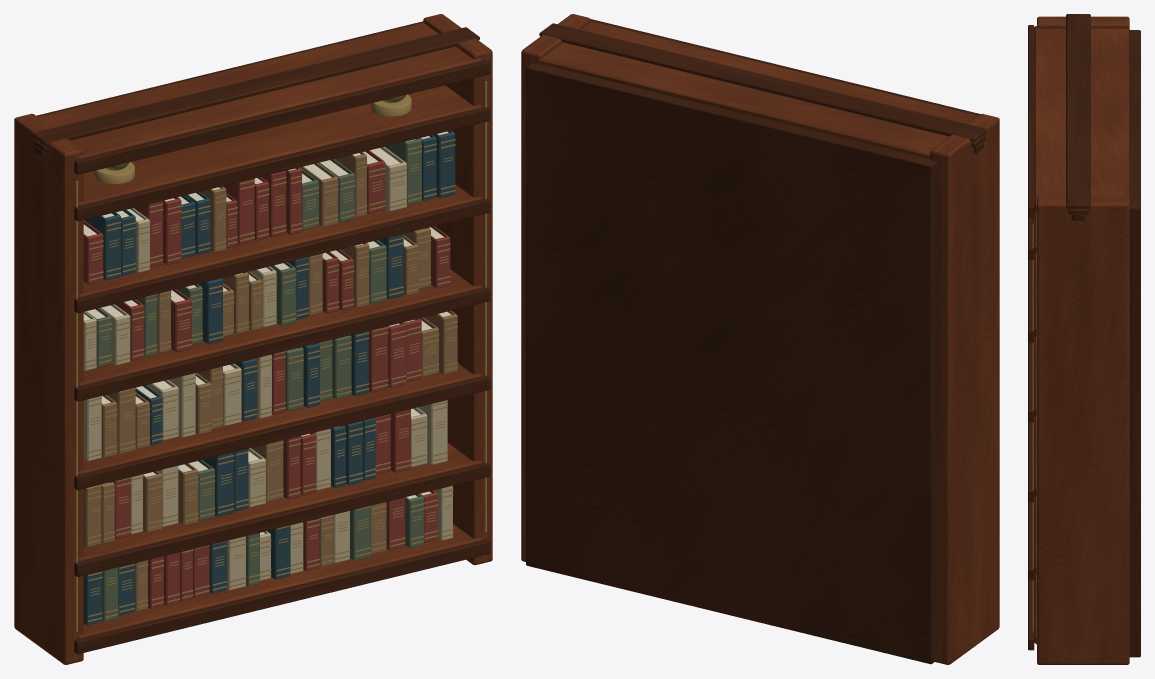
The model's file is bookcase-left.glb.
The picture shows the model from 3 angles, left to right: view 1: azimuth 30°, elevation 25°; view 2: azimuth 150°, elevation 25°; view 3: azimuth 270°, elevation 25°; orthographic projection. The views are drawn at different scales.
Parts seen in each view (by area): view 1: part::bookcase-left/library-pilaster-001, part::bookcase-left/library-pilaster-002, part::bookcase-left/library-solid-shelf-007, part::bookcase-left/library-solid-shelf-006, part::bookcase-left/library-crown2-001, part::bookcase-left/library-shelf-lip-007, part::bookcase-left/library-shelf-lip-001, part::bookcase-left/library-shelf-lip-002, part::bookcase-left/library-shelf-lip-004, part::bookcase-left/library-shelf-lip-006, part::bookcase-left/library-shelf-lip-003, part::bookcase-left/library-shelf-lip-005 (+108 smaller); view 2: part::bookcase-left/library-shadow-backing-001, part::bookcase-left/library-pilaster-001, part::bookcase-left/library-solid-shelf-007, part::bookcase-left/library-crown2-001, part::bookcase-left/library-pilaster-002, part::bookcase-left/library-shelf-lip-007; view 3: part::bookcase-left/library-pilaster-002, part::bookcase-left/library-solid-shelf-007, part::bookcase-left/library-shadow-backing-001, part::bookcase-left/library-crown2-001, part::bookcase-left/library-shelf-lip-007, part::bookcase-left/library-pilaster-001, part::bookcase-left/library-pilaster-brass-flute-002, part::bookcase-left/library-shelf-lip-005, part::bookcase-left/library-shelf-lip-003, part::bookcase-left/library-shelf-lip-004, part::bookcase-left/library-shelf-lip-002, part::bookcase-left/library-shelf-lip-001 (+6 smaller).
Part boxes in pixels (x1,y1,x2,y2): part::bookcase-left/library-pilaster-001: (14,113,83,664); part::bookcase-left/library-pilaster-002: (423,14,492,565); part::bookcase-left/library-solid-shelf-007: (38,23,481,159); part::bookcase-left/library-solid-shelf-006: (78,85,481,205); part::bookcase-left/library-crown2-001: (32,27,479,146); part::bookcase-left/library-shelf-lip-007: (74,60,490,174); part::bookcase-left/library-shelf-lip-001: (74,539,490,654); part::bookcase-left/library-shelf-lip-002: (74,462,490,576); part::bookcase-left/library-shelf-lip-004: (74,287,490,401); part::bookcase-left/library-shelf-lip-006: (74,106,490,221); part::bookcase-left/library-shelf-lip-003: (74,375,490,490); part::bookcase-left/library-shelf-lip-005: (74,198,490,313); part::bookcase-left/library-shadow-backing-001: (526,63,937,664); part::bookcase-left/library-pilaster-001: (930,113,999,664); part::bookcase-left/library-solid-shelf-007: (540,21,977,159); part::bookcase-left/library-crown2-001: (539,23,986,142); part::bookcase-left/library-pilaster-002: (521,14,590,561); part::bookcase-left/library-shelf-lip-007: (590,19,979,115); part::bookcase-left/library-pilaster-002: (1037,196,1129,664); part::bookcase-left/library-solid-shelf-007: (1034,26,1128,211); part::bookcase-left/library-shadow-backing-001: (1129,30,1140,657); part::bookcase-left/library-crown2-001: (1066,14,1090,208); part::bookcase-left/library-shelf-lip-007: (1028,25,1034,217); part::bookcase-left/library-pilaster-001: (1037,16,1129,32); part::bookcase-left/library-pilaster-brass-flute-002: (1032,224,1033,631); part::bookcase-left/library-shelf-lip-005: (1028,259,1034,342); part::bookcase-left/library-shelf-lip-003: (1028,422,1034,502); part::bookcase-left/library-shelf-lip-004: (1028,342,1034,422); part::bookcase-left/library-shelf-lip-002: (1028,502,1034,580); part::bookcase-left/library-shelf-lip-001: (1028,580,1034,650).
Size of the model in its own units: 2.83 by 3.19 by 0.705.
Materials: 9 (2 with a texture image).
